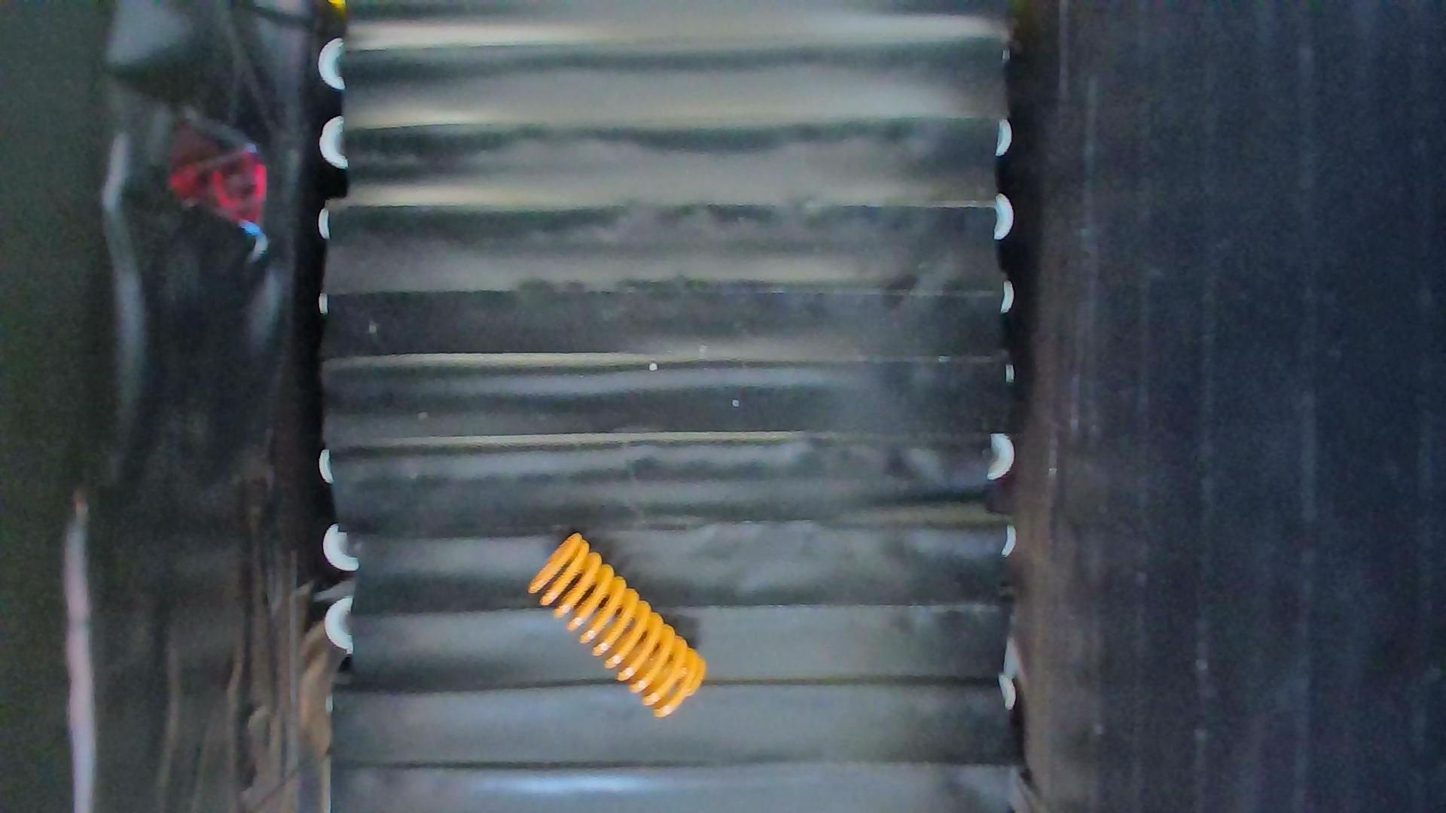spring: (526, 531, 708, 720)
